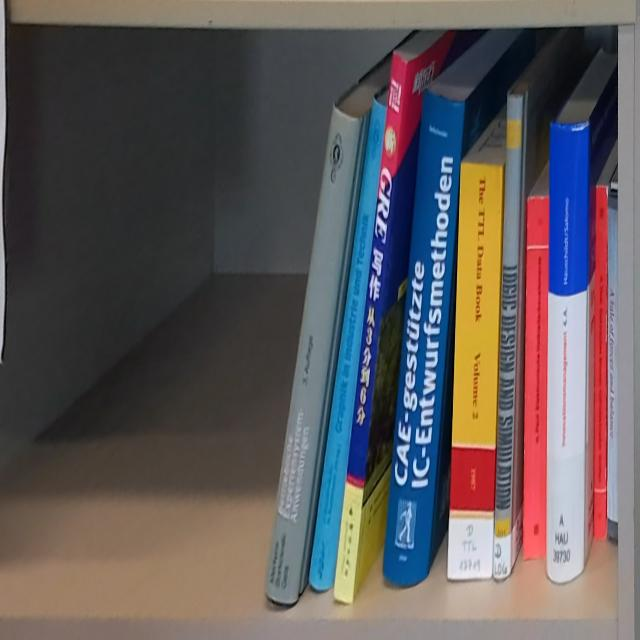Book Spine: (265, 103, 364, 606), (382, 87, 467, 591), (332, 48, 406, 604), (308, 96, 389, 593), (447, 161, 504, 580), (546, 118, 590, 585), (493, 93, 525, 580), (523, 196, 550, 560), (594, 184, 608, 541), (607, 195, 619, 541)
